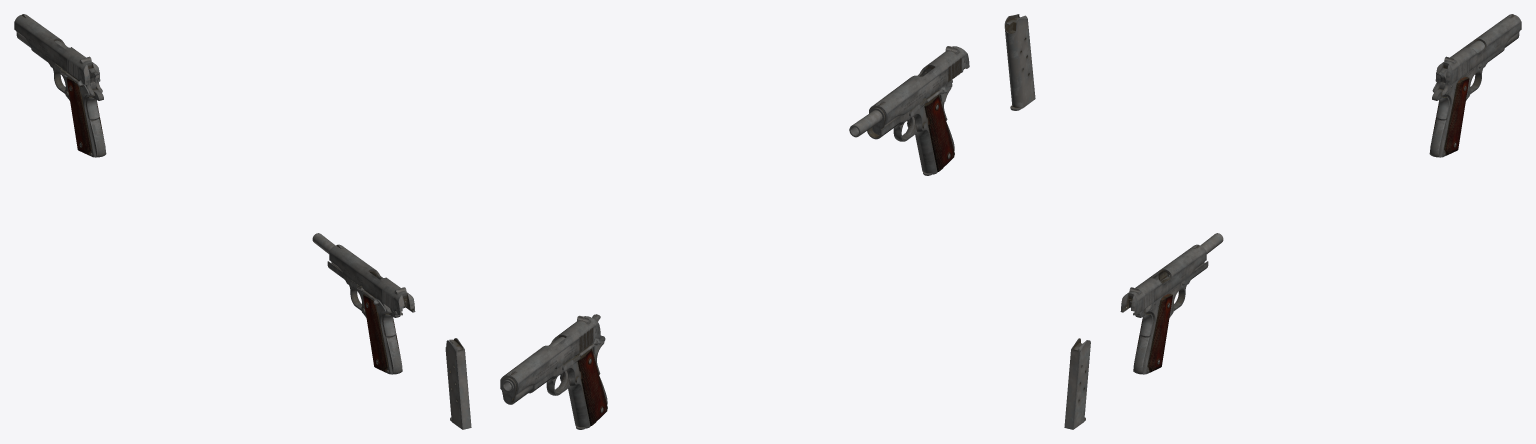
The picture shows the model from 3 angles, left to right: view 1: azimuth 30°, elevation 25°; view 2: azimuth 150°, elevation 25°; view 3: azimuth 330°, elevation 25°; orthographic projection. The views are drawn at different scales.
Parts seen in each view (by area): view 1: slide_low.002, slide_low.001, magazine_empty, grips_low.001, grips_low.002, base_low.001, base_low.002; view 2: slide_low.001, slide_low.002, magazine_empty, base_low.002, base_low.001, grips_low.002, grips_low.001; view 3: slide_low.002, slide_low.001, magazine_empty, grips_low.001, grips_low.002, base_low.001, base_low.002.
Part boxes in pixels (x1,y1,x2,y2): slide_low.002: (329,245,415,315); slide_low.001: (14,14,100,84); magazine_empty: (445,338,471,429); grips_low.001: (66,77,104,155); grips_low.002: (363,294,400,372); base_low.001: (31,45,106,157); base_low.002: (327,261,402,374); slide_low.001: (500,316,600,404); slide_low.002: (869,46,969,134); magazine_empty: (1004,14,1035,110); base_low.002: (867,84,954,174); base_low.001: (528,338,607,428); grips_low.002: (924,95,954,171); grips_low.001: (577,349,607,425); slide_low.002: (1120,245,1206,315); slide_low.001: (1435,14,1521,84); magazine_empty: (1064,338,1090,429); grips_low.001: (1431,77,1469,155); grips_low.002: (1135,294,1172,372); base_low.001: (1429,45,1504,157); base_low.002: (1133,261,1208,374).
Bounding box in the file's own units: 0.0326 × 0.132 × 1.15.
Materials: 2 (2 with a texture image).
